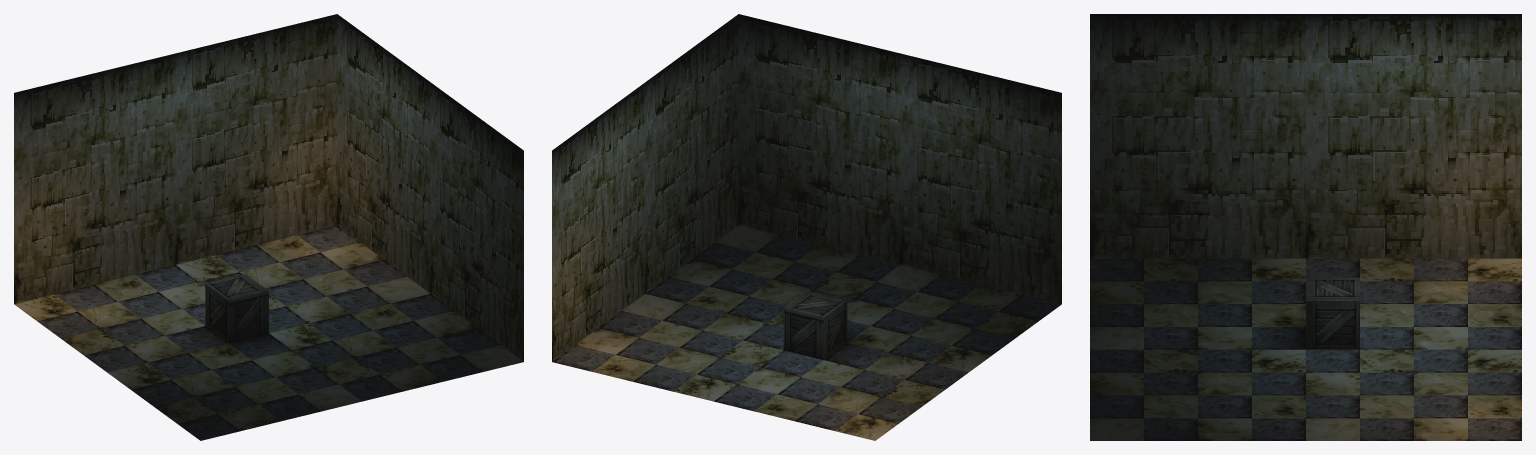
The model's file is MAP000.gltf.
3 renders of one model, left to right at view 1: azimuth 30°, elevation 25°; view 2: azimuth 150°, elevation 25°; view 3: azimuth 270°, elevation 25°, orthographic. The views are drawn at different scales.
Bounding box in the file's own units: 102 × 64 × 102.
5 materials, 5 textured.
